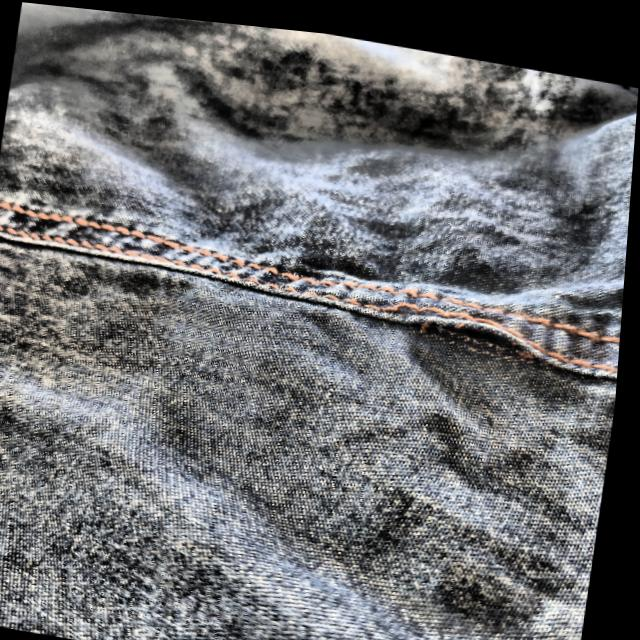seam: (369, 276, 591, 366)
